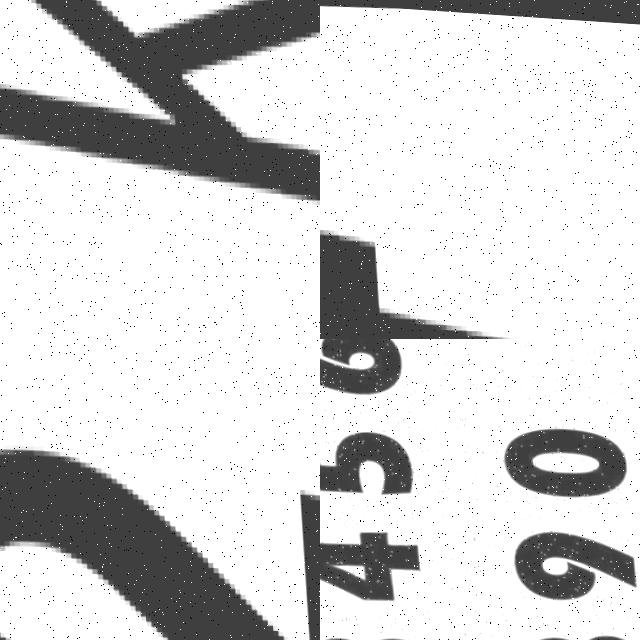0: (486, 406, 634, 501)
2: (0, 421, 320, 640)
3: (320, 613, 441, 640)
4: (320, 514, 440, 614)
5: (320, 412, 427, 504)
6: (320, 339, 412, 403)
8: (504, 613, 640, 640)
9: (503, 512, 640, 602)
F: (320, 148, 640, 339)
K: (0, 0, 320, 232)
